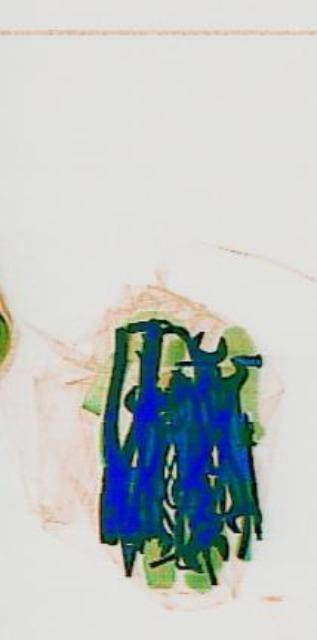Pliers: (95, 314, 160, 576), (198, 402, 249, 584)
Wrench: (171, 324, 225, 496)
